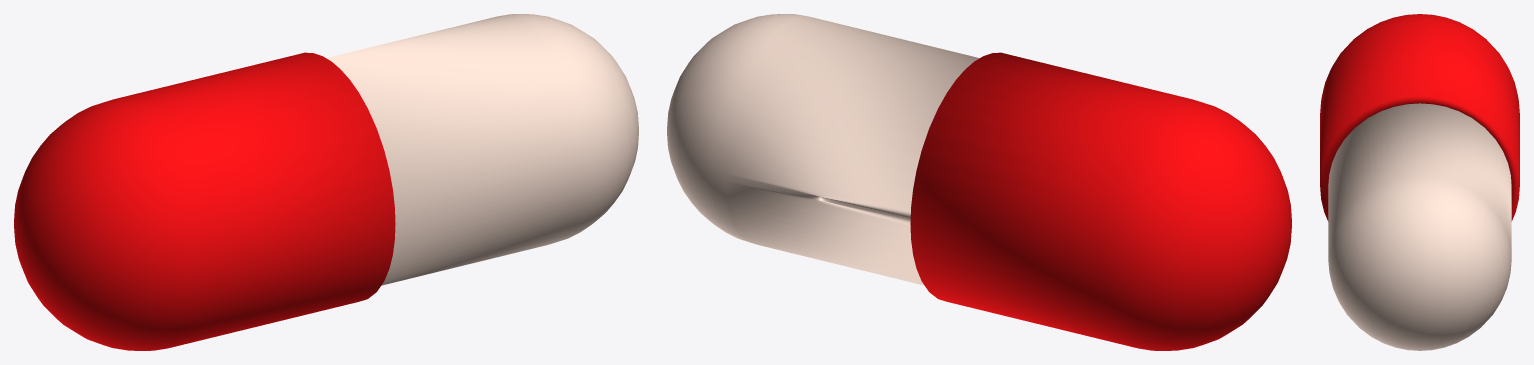
Rendered from complexPill.obj.
3 renders of one model, left to right at view 1: azimuth 30°, elevation 25°; view 2: azimuth 150°, elevation 25°; view 3: azimuth 270°, elevation 25°, orthographic. The views are drawn at different scales.
Visible parts, largest first — view 1: Roundcube; view 2: Roundcube; view 3: Roundcube.
Part boxes in pixels (x1=…): Roundcube: x1=14, y1=14, x2=638, y2=350; Roundcube: x1=667, y1=14, x2=1291, y2=350; Roundcube: x1=1320, y1=14, x2=1519, y2=350.
Bounding box in the file's own units: 0.2919 × 0.1089 × 0.1089.
